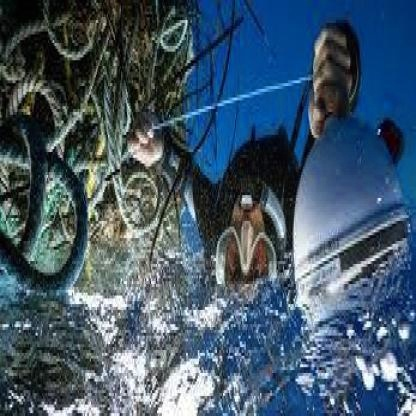net: (1, 3, 191, 295)
